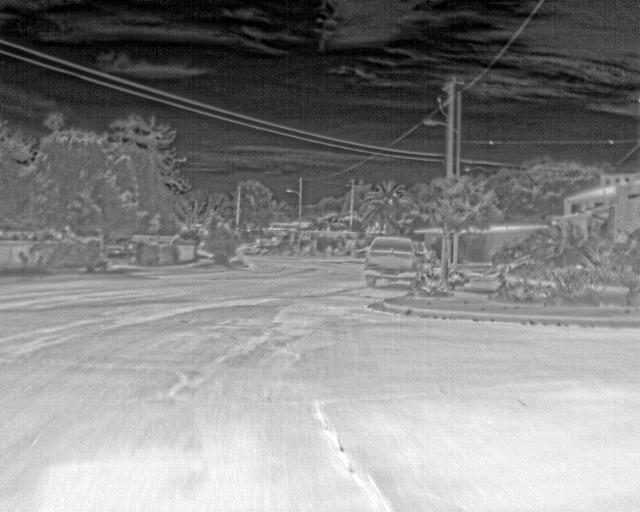car: (363, 234, 419, 288)
